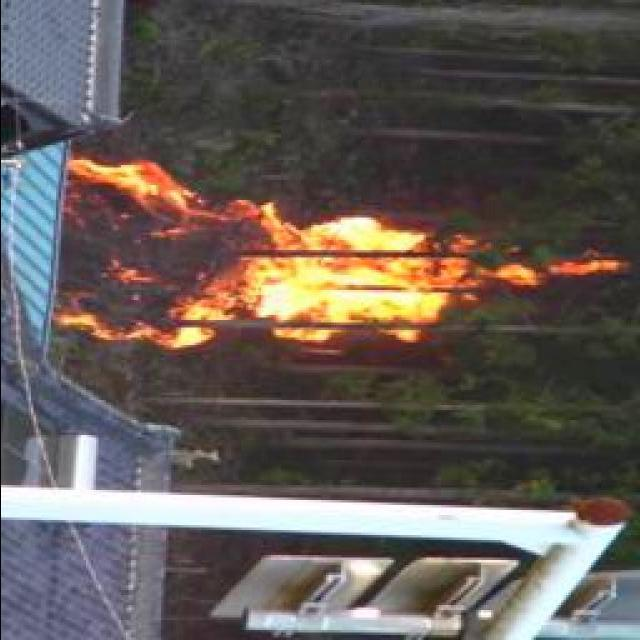Fire: (47, 160, 618, 352)
